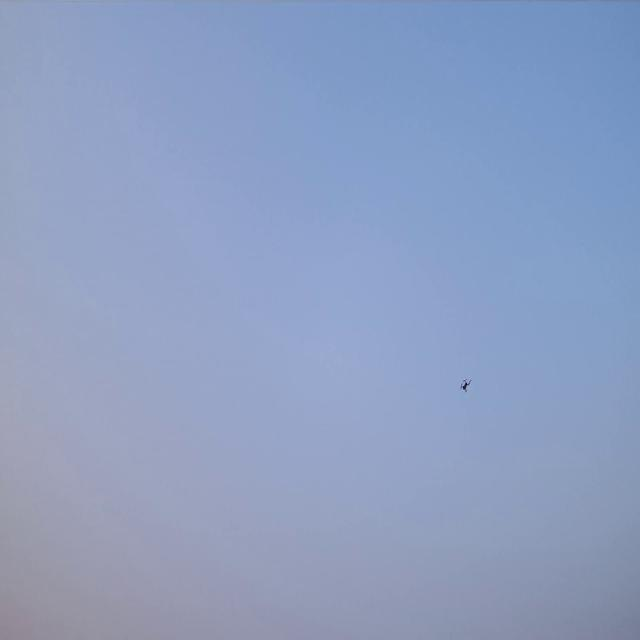UAV: (461, 380, 470, 390)
